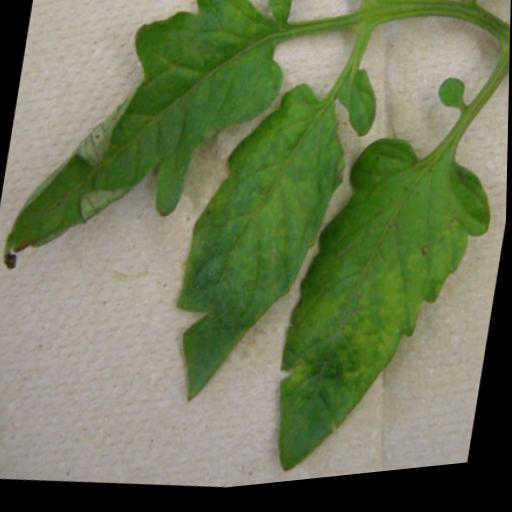Mosaic Virus: (260, 113, 509, 490), (0, 0, 293, 305), (172, 86, 350, 424)
